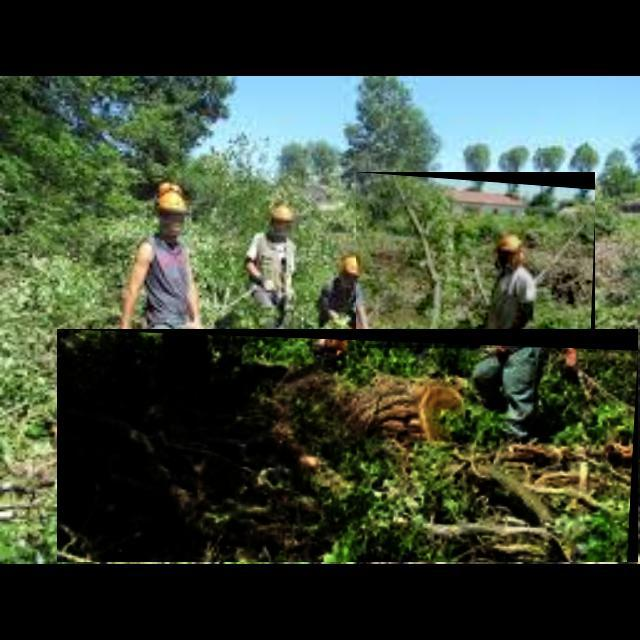fallen_tree: (57, 329, 639, 563), (356, 172, 596, 348)
